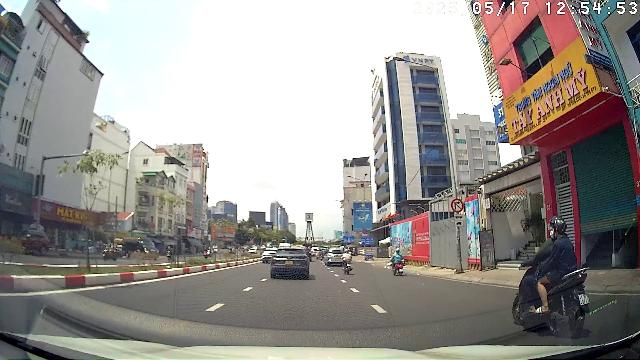123b-cam-re-phai: (451, 197, 464, 212)
